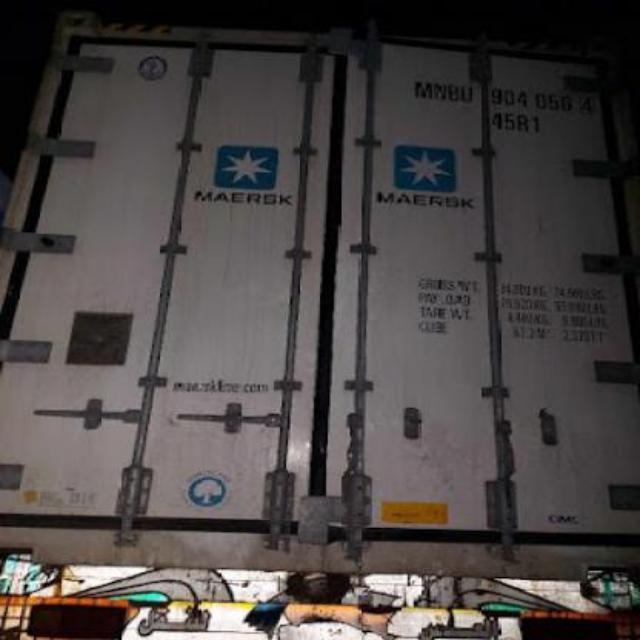0: (534, 92, 548, 110), (504, 88, 516, 108)
4: (516, 88, 532, 108), (580, 95, 594, 115)
5: (548, 92, 562, 112)
6: (560, 92, 574, 112)
9: (491, 87, 504, 105)
B: (448, 82, 460, 102)
M: (414, 81, 434, 101)
N: (432, 83, 448, 101)
U: (460, 84, 476, 104)
